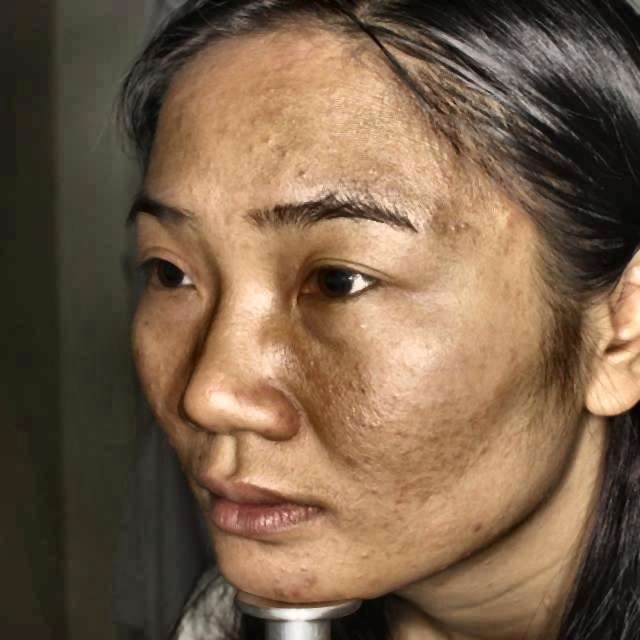comedone: (492, 204, 519, 235), (295, 566, 333, 584)
